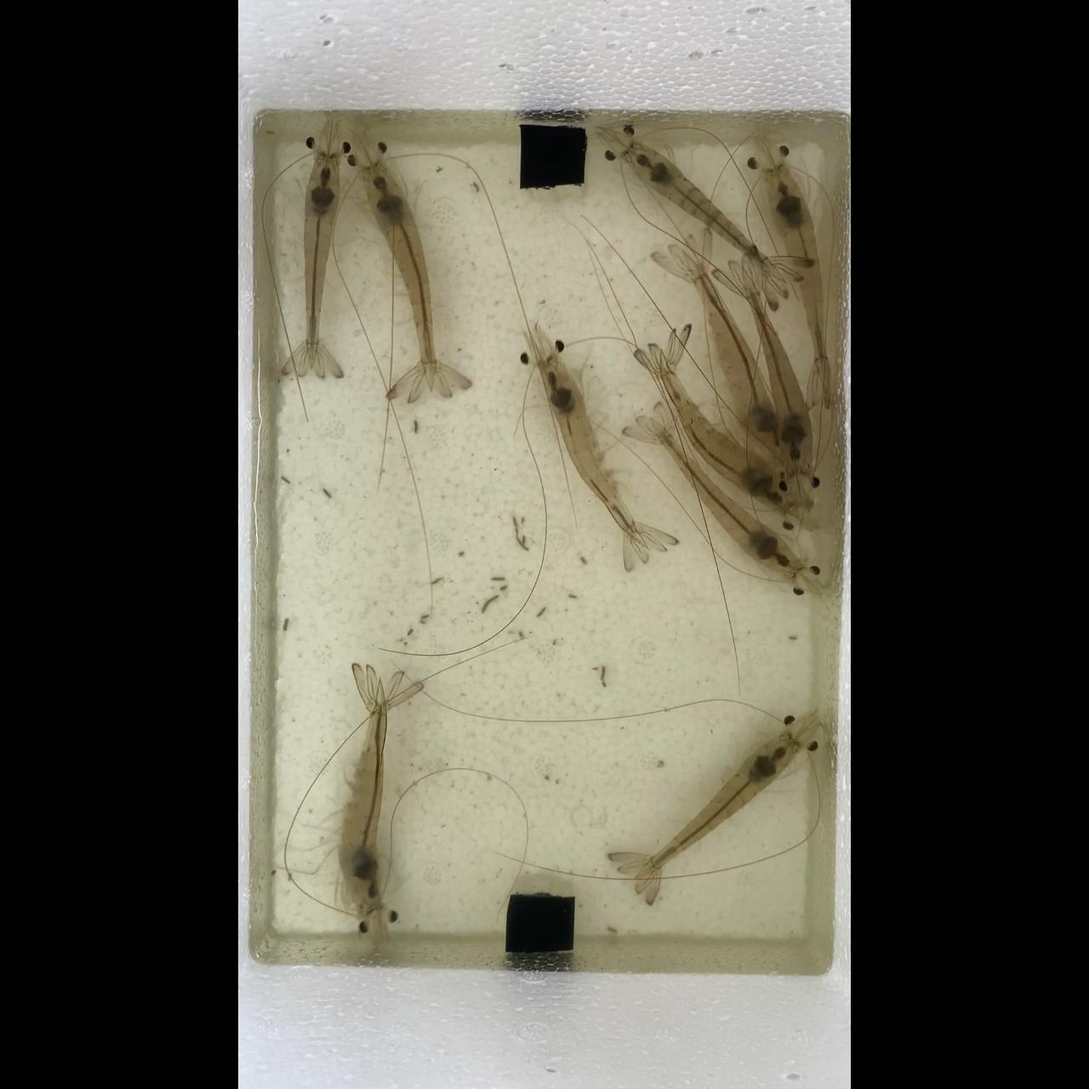box: (505, 893, 573, 970), (520, 125, 586, 189)
top_shrimp: (649, 416, 800, 578), (635, 736, 799, 877), (628, 144, 785, 284), (540, 362, 645, 549), (660, 348, 783, 507), (685, 250, 783, 449), (364, 166, 436, 394), (763, 168, 828, 397), (741, 265, 812, 467), (339, 678, 388, 901), (303, 154, 340, 370)
